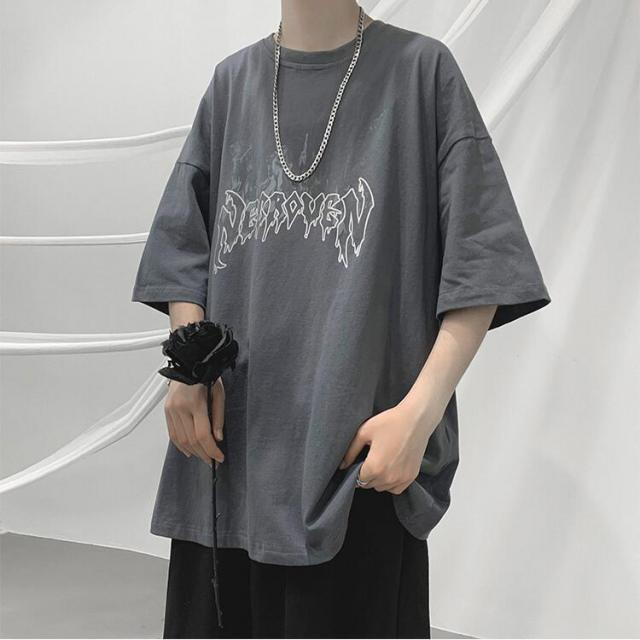Shirt: (130, 14, 556, 570)
